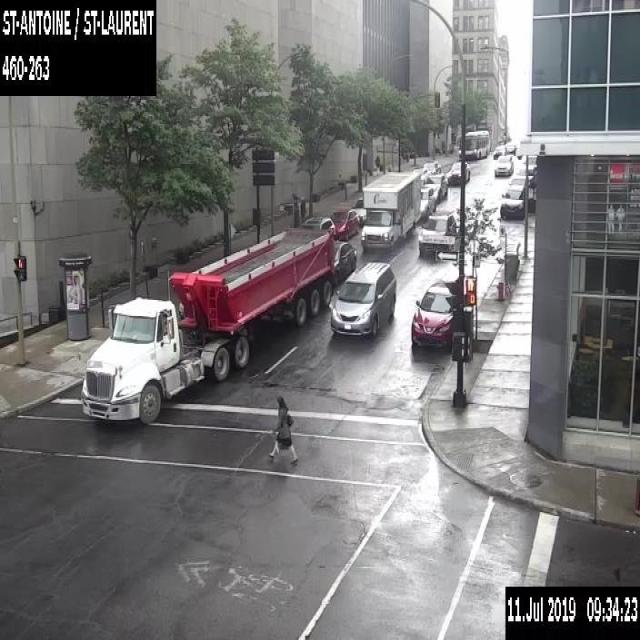bus: (458, 128, 489, 158)
pedestrian: (267, 393, 298, 463), (299, 196, 306, 221), (374, 154, 380, 176)
vehicle: (80, 221, 336, 423), (330, 261, 396, 337), (360, 170, 420, 252), (409, 278, 452, 350), (418, 210, 456, 253), (332, 240, 356, 286), (332, 208, 360, 240), (499, 184, 524, 218), (297, 215, 335, 237), (423, 172, 448, 202), (508, 174, 536, 200), (420, 185, 436, 220), (447, 160, 470, 184), (493, 154, 512, 176), (350, 196, 366, 222), (516, 154, 536, 174), (412, 166, 431, 183), (492, 144, 509, 158), (422, 160, 440, 173), (506, 141, 516, 154)
